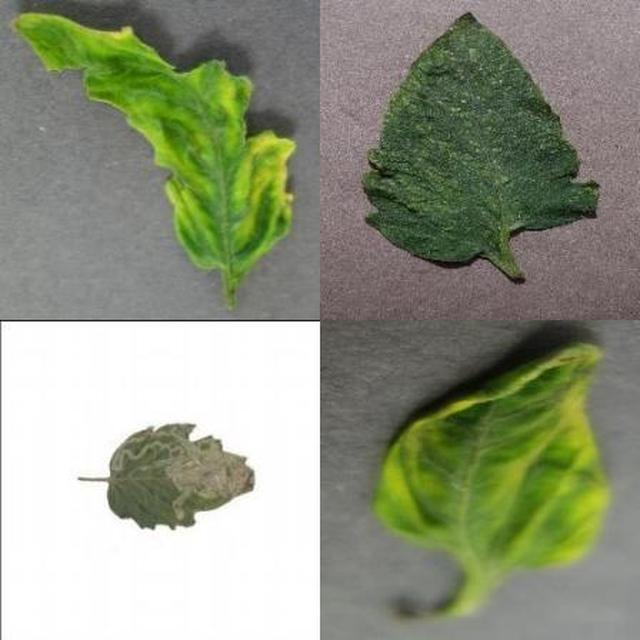Yellow Leaf Curl Virus: (214, 159, 640, 640)
